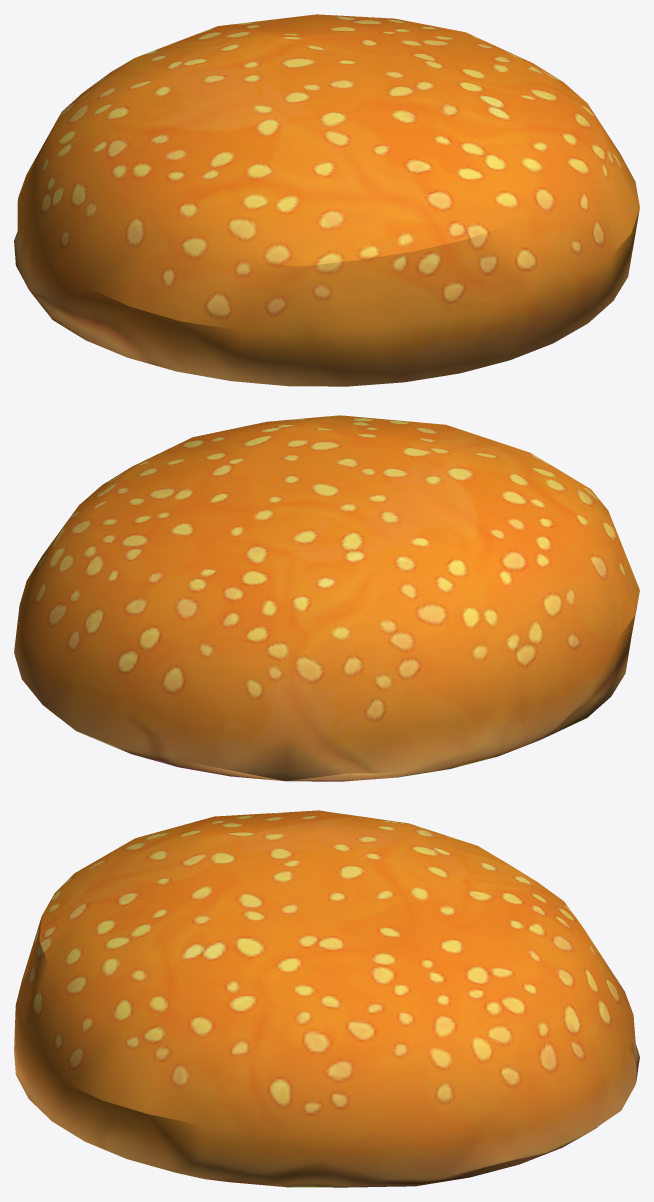
Rendered from Sandwich_ust.fbx.
3 renders of one model, top to bottom at view 1: azimuth 30°, elevation 25°; view 2: azimuth 150°, elevation 25°; view 3: azimuth 270°, elevation 25°, orthographic. The views are drawn at different scales.
Parts seen in each view (by area): view 1: Sandwich_ust; view 2: Sandwich_ust; view 3: Sandwich_ust.
Boxes of the visible parts, bbox=[...] form: Sandwich_ust: bbox=[14, 14, 639, 386]; Sandwich_ust: bbox=[14, 415, 639, 781]; Sandwich_ust: bbox=[14, 810, 639, 1187].
Bounding box in the file's own units: 31.99 × 10.41 × 32.13.
